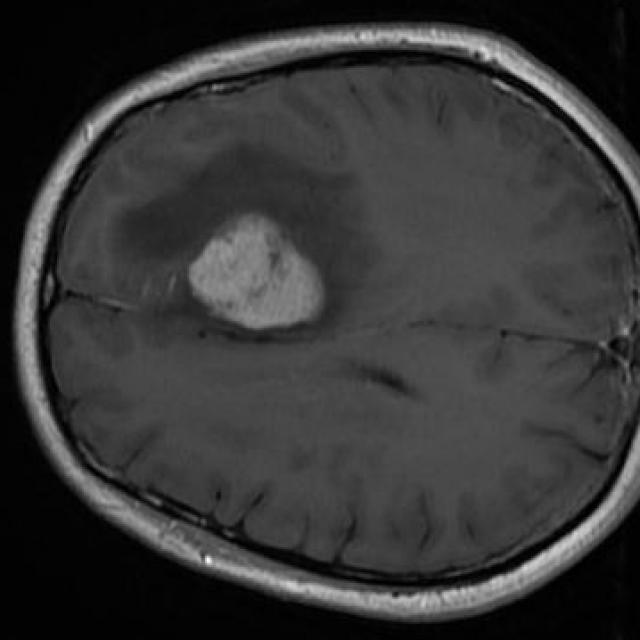meningioma: (189, 212, 328, 332)
